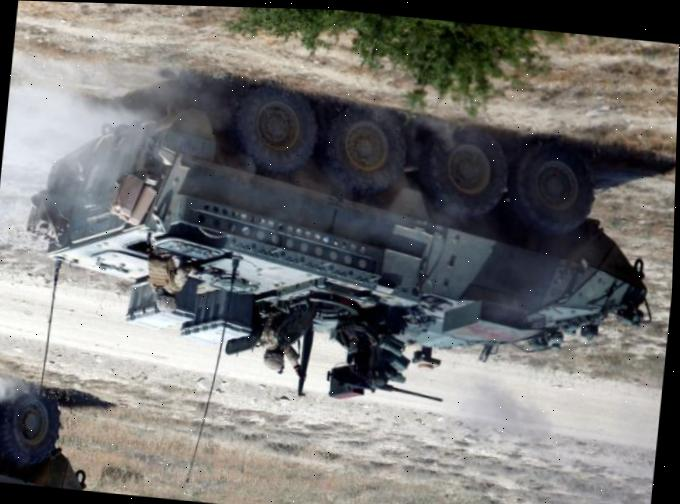armored_car: (10, 61, 676, 443), (0, 384, 95, 491)
